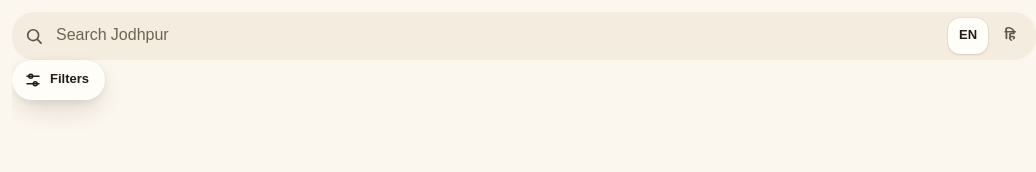
it: language toggle in the search field › flips labels from English to Hindi and remembers the choice
Expected: the search field with placeholder "Search Jodhpur" is shown, [56,12,934,60]
Expected: the button "Filters" is shown, [12,60,105,100]
Click the button named "हिन्दी".
click(1010, 36)  # box [990,18,1030,54]
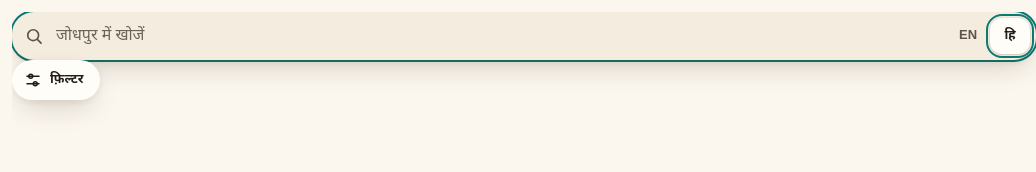
Expected: the search field with placeholder "जोधपुर में खोजें" is shown, [56,12,934,60]
Expected: the button "फ़िल्टर" is shown, [12,60,100,100]
Expected: the button "Filters" is gone
